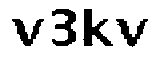3: (48, 5, 78, 51)
k: (82, 6, 116, 50)
v: (116, 14, 149, 50), (11, 16, 44, 51)
